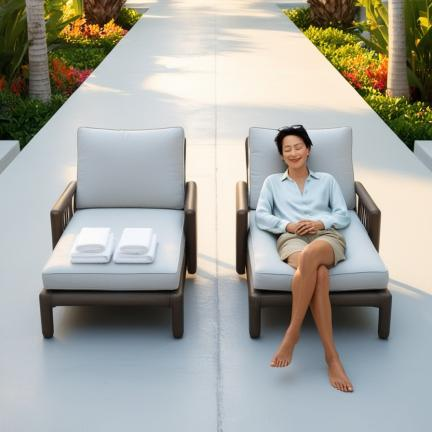guest on chair: (236, 126, 392, 391)
occupied chair: (40, 127, 197, 338)
